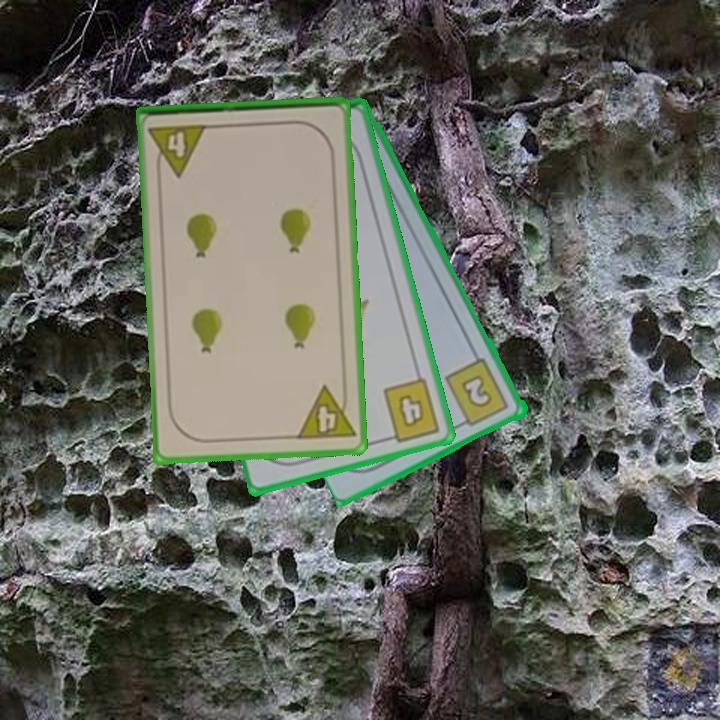2b: (442, 355, 512, 431)
4b: (379, 374, 444, 445)
4p: (293, 382, 358, 443), (145, 120, 210, 180)
